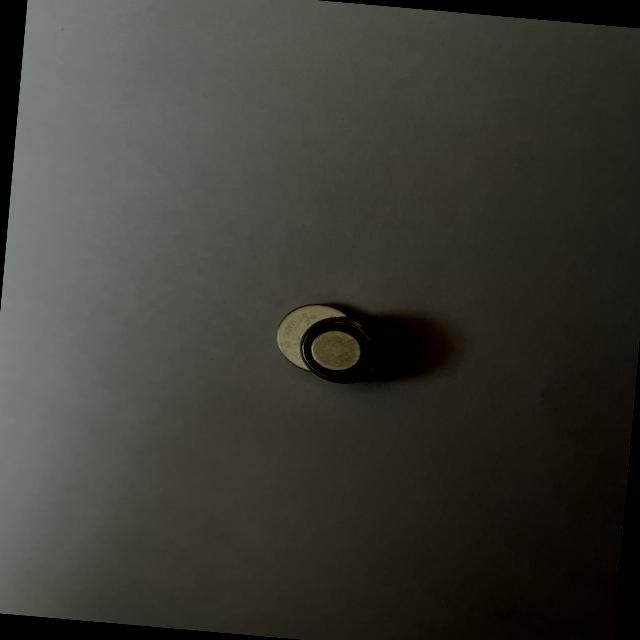COIN: (296, 312, 397, 386), (273, 299, 352, 372)
